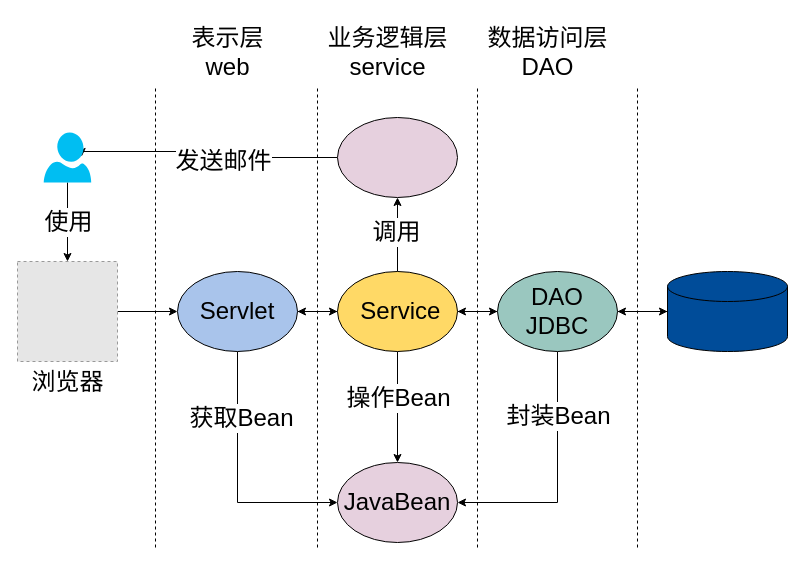
Some shapes in this 805 by 566 pixel diagram are drawn without their labels. Grey dashed boxes stand in for pictures. The shapes that lost their labels are listed below. From the top down, each one's centre as x and y in pixels, then its label:
At pixel 397 157: "JavaMail".
At pixel 727 311: "DataBase".
